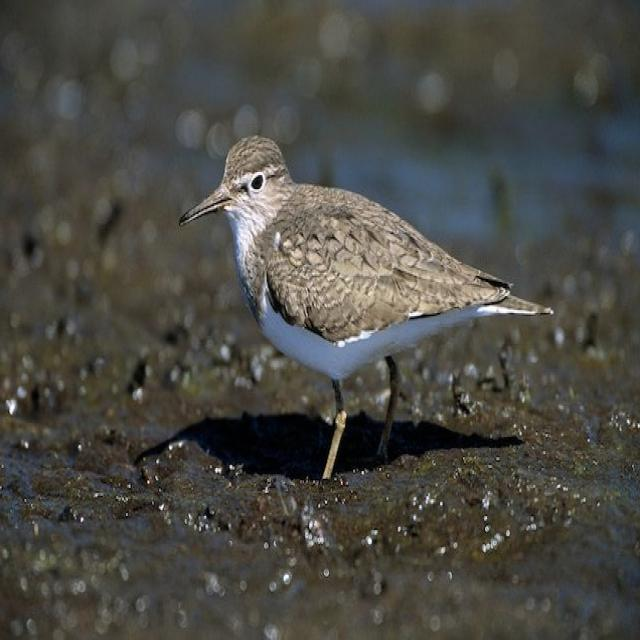sandpiper: (180, 136, 553, 477)
